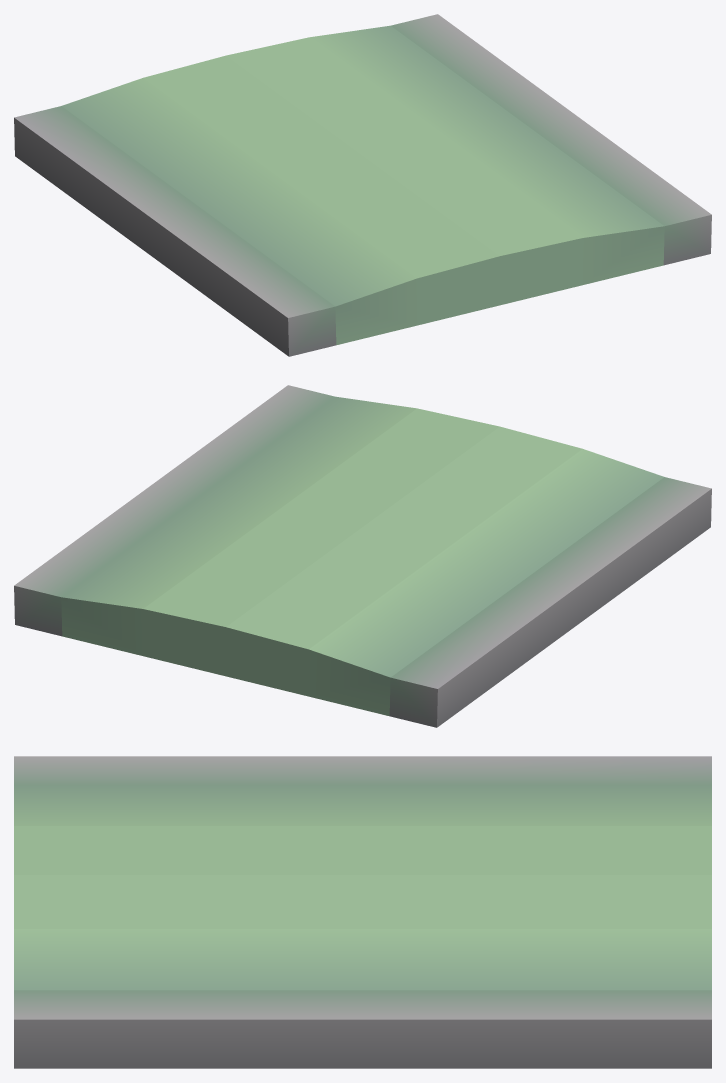
The model's file is Trafficisland_00.glb.
3 renders of one model, top to bottom at view 1: azimuth 30°, elevation 25°; view 2: azimuth 150°, elevation 25°; view 3: azimuth 270°, elevation 25°, orthographic. The views are drawn at different scales.
Parts seen in each view (by area): view 1: Trafficisland_00; view 2: Trafficisland_00; view 3: Trafficisland_00.
Boxes of the visible parts, x1,y1,x2,y2 form: Trafficisland_00: (14,14,711,356); Trafficisland_00: (14,385,711,727); Trafficisland_00: (14,756,711,1068).
Size of the model in its own units: 0.4465 by 0.0496 by 0.5.
